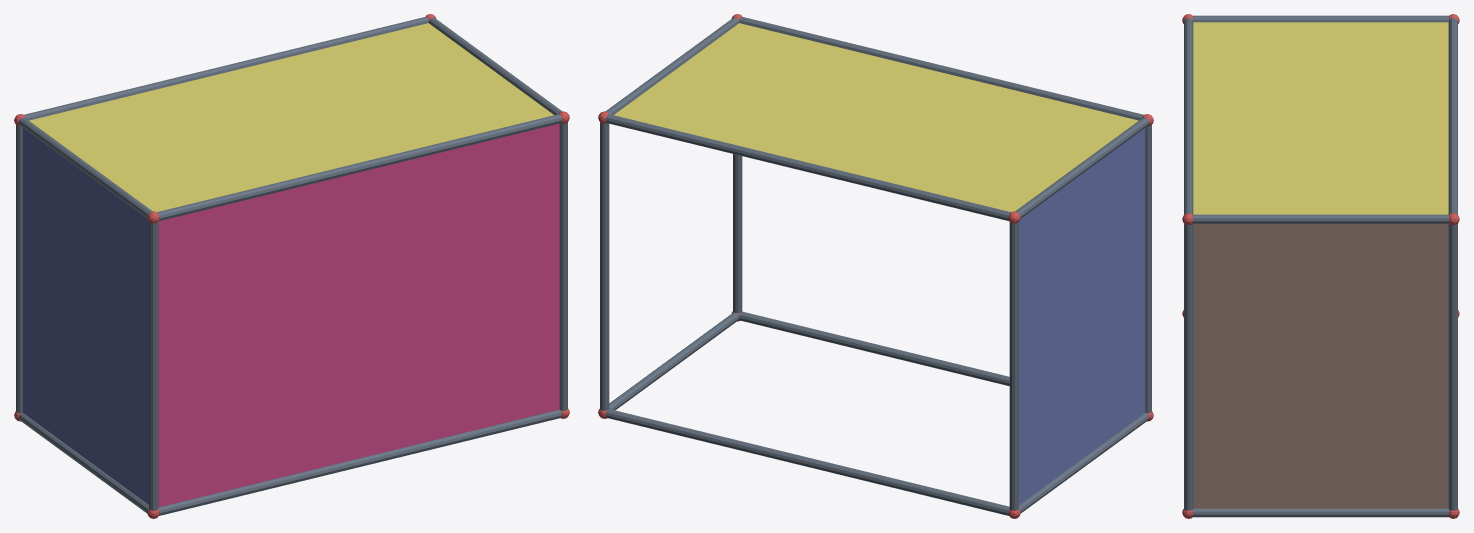
Rendered from hopchunhat.glb.
The picture shows the model from 3 angles, left to right: view 1: azimuth 30°, elevation 25°; view 2: azimuth 150°, elevation 25°; view 3: azimuth 270°, elevation 25°; orthographic projection.
Parts seen in each view (by area): view 1: world; view 2: world; view 3: world.
Part boxes in pixels (left/top/right/bottom): world: left=14, top=14, right=569, bottom=518; world: left=598, top=14, right=1153, bottom=518; world: left=1182, top=14, right=1459, bottom=518.
Bounding box in the file's own units: 0.822 × 0.572 × 0.472.
